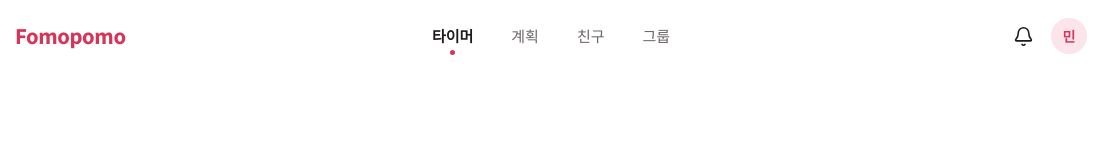
Scenario: Navbar › shows a short empty state when there are no notifications
Click the button named "알림" at {"x": 1023, "y": 36}, box [1003,16,1043,56]
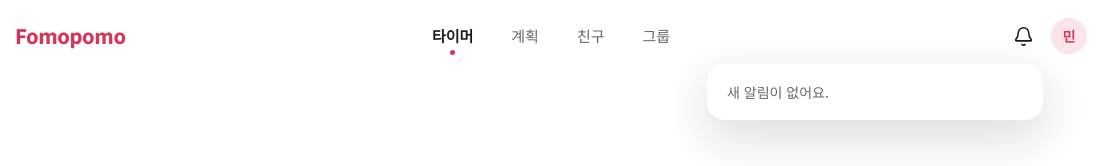
Check: the element "알림" reads "새 알림이 없어요.", box [727,82,829,102]
